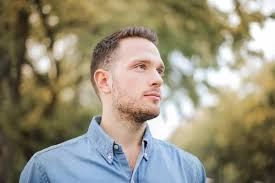sansCasque: (46, 20, 228, 147)
